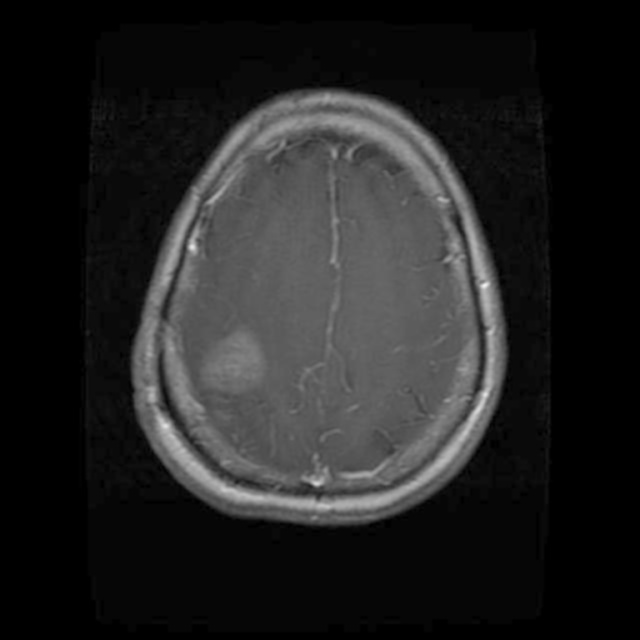pituitary tumor: (202, 328, 268, 402)
